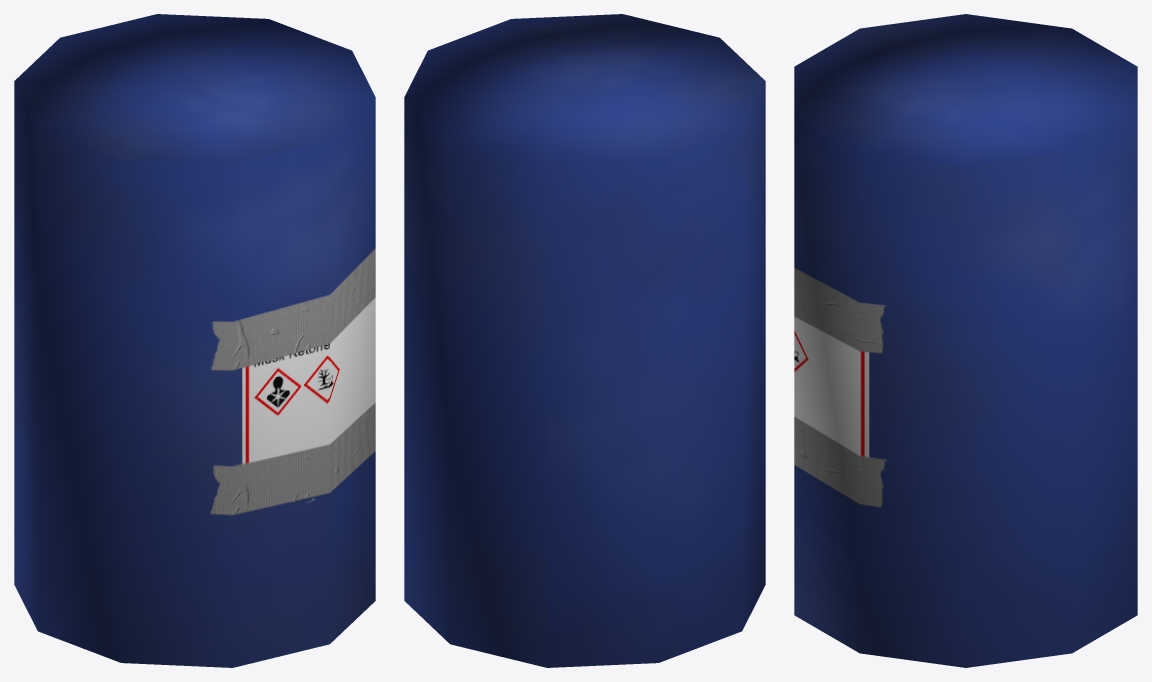
Rendered from MuskKeton_False.fbx.
3 views of the same model, side by side, from view 1: azimuth 30°, elevation 25°; view 2: azimuth 150°, elevation 25°; view 3: azimuth 270°, elevation 25° (orthographic).
Parts seen in each view (by area): view 1: MuskKeton_False; view 2: MuskKeton_False; view 3: MuskKeton_False.
Part boxes in pixels (bbox=[...]): MuskKeton_False: bbox=[14, 14, 375, 667]; MuskKeton_False: bbox=[404, 14, 765, 667]; MuskKeton_False: bbox=[794, 14, 1137, 667].
Size of the model in its own units: 0.3862 by 0.5914 by 0.3673.
1 material, 1 textured.
